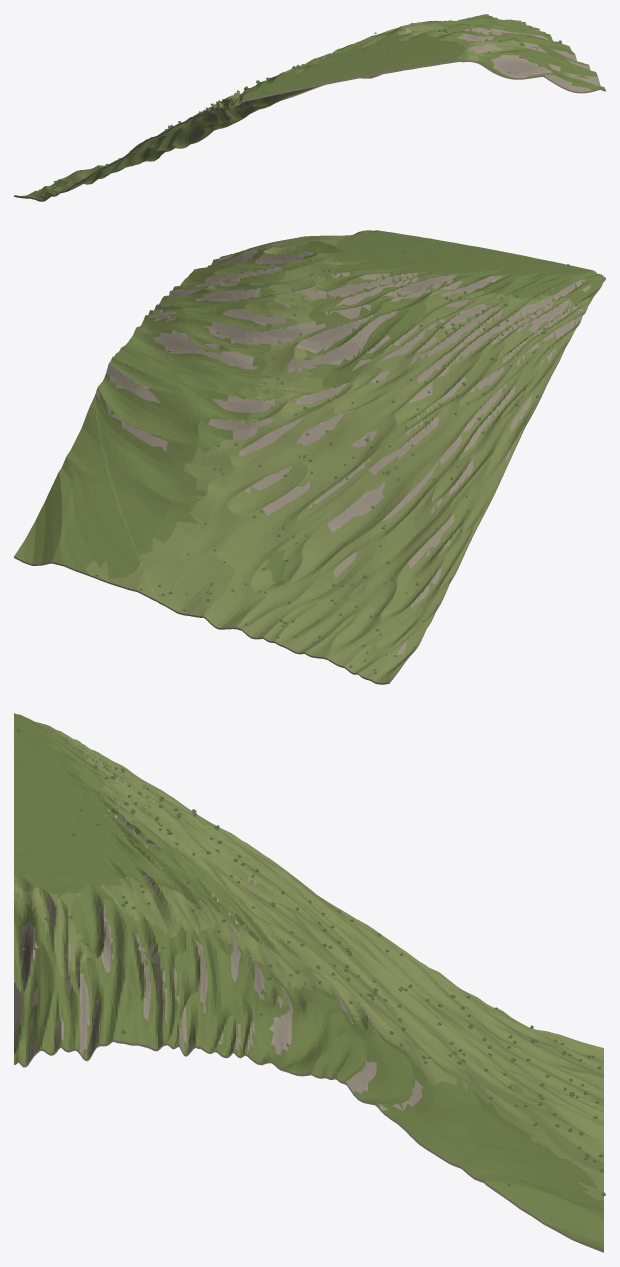
Rendered from parca_+7_-5-yakin.glb.
The picture shows the model from 3 angles, top to bottom: view 1: azimuth 30°, elevation 25°; view 2: azimuth 150°, elevation 25°; view 3: azimuth 270°, elevation 25°; orthographic projection. The views are drawn at different scales.
Visible parts, largest first — view 1: parca_+7_-5_arazi, parca_+7_-5_bitkiler; view 2: parca_+7_-5_arazi, parca_+7_-5_bitkiler; view 3: parca_+7_-5_arazi, parca_+7_-5_bitkiler.
Part boxes in pixels (x1=…): parca_+7_-5_arazi: x1=14, y1=14, x2=605, y2=201; parca_+7_-5_bitkiler: x1=34, y1=23, x2=561, y2=199; parca_+7_-5_arazi: x1=14, y1=230, x2=605, y2=684; parca_+7_-5_bitkiler: x1=21, y1=239, x2=569, y2=673; parca_+7_-5_arazi: x1=14, y1=713, x2=603, y2=1252; parca_+7_-5_bitkiler: x1=17, y1=729, x2=605, y2=1246.
Size of the model in its own units: 1002 by 654 by 1003.
